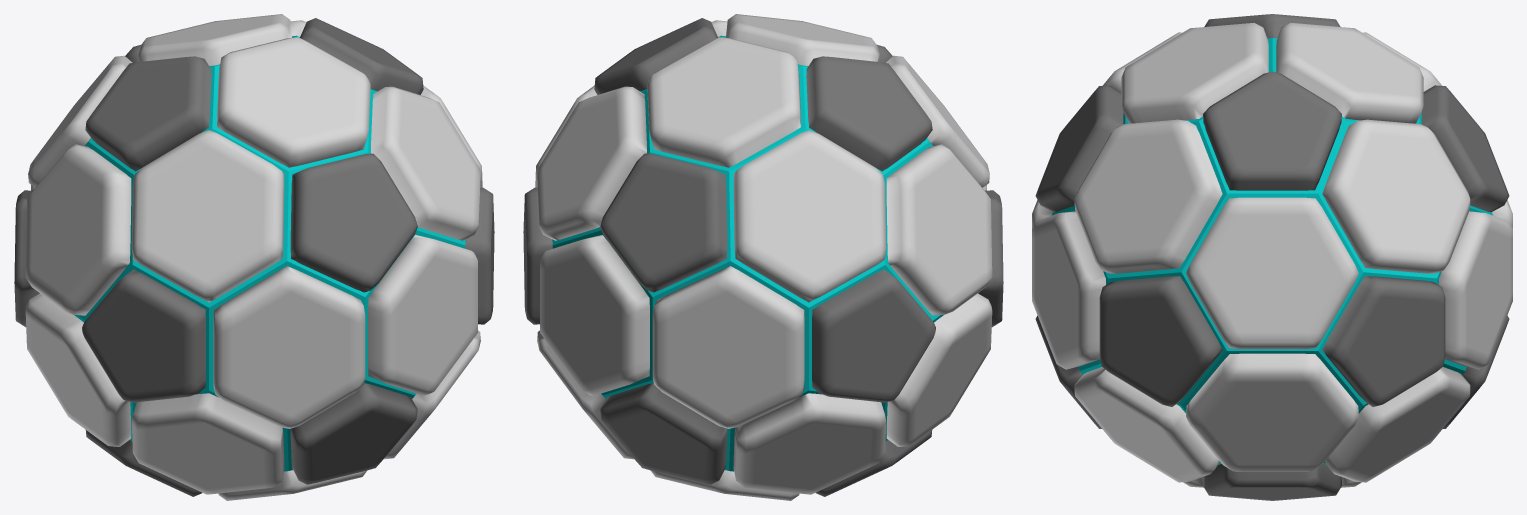
File: ball.dae
3 views of the same model, side by side, from view 1: azimuth 30°, elevation 25°; view 2: azimuth 150°, elevation 25°; view 3: azimuth 270°, elevation 25° (orthographic).
Visible parts, largest first — view 1: Ball, Glow; view 2: Ball, Glow; view 3: Ball, Glow.
Part boxes in pixels (x1,y1,x2,y2): Ball: (14,14,494,500); Glow: (39,35,465,471); Ball: (523,14,1003,500); Glow: (552,35,978,471); Ball: (1032,14,1512,500); Glow: (1052,38,1492,464).
Bounding box in the file's own units: 1.98 × 1.98 × 1.98.
